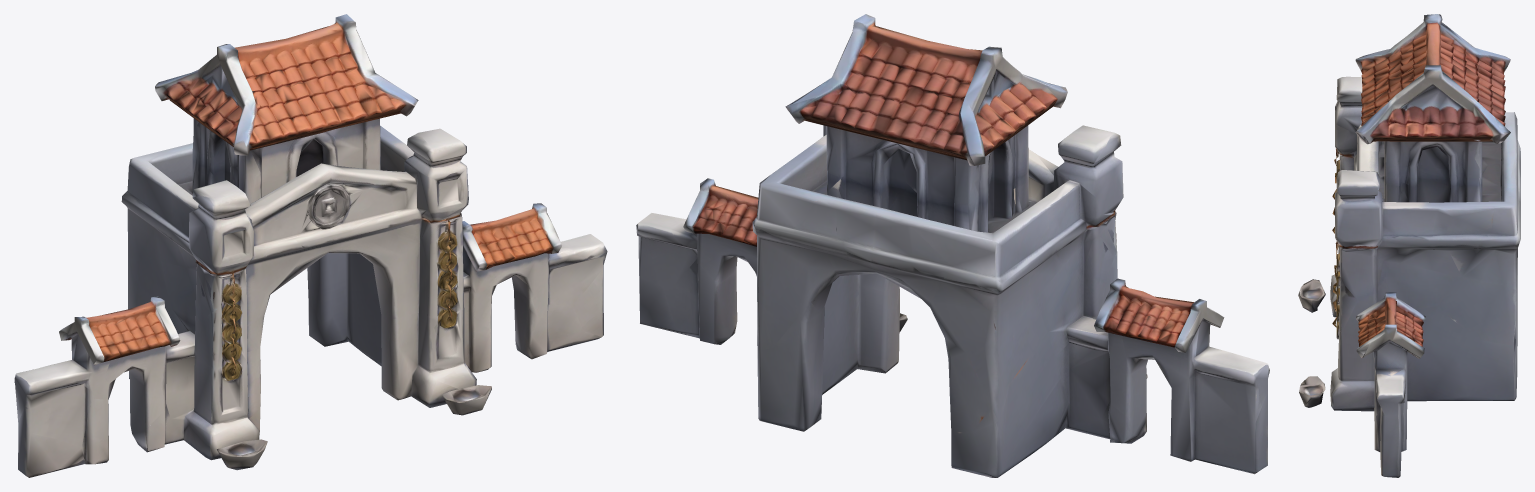
Rendered from cong-lang-bac.8121d0a3.glb.
3 renders of one model, left to right at view 1: azimuth 30°, elevation 25°; view 2: azimuth 150°, elevation 25°; view 3: azimuth 270°, elevation 25°, orthographic. The views are drawn at different scales.
Parts seen in each view (by area): view 1: tripo_node_dccabd12-5fb9-401d-8ad4-54225830297c; view 2: tripo_node_dccabd12-5fb9-401d-8ad4-54225830297c; view 3: tripo_node_dccabd12-5fb9-401d-8ad4-54225830297c.
Part boxes in pixels (x1,y1,x2,y2): tripo_node_dccabd12-5fb9-401d-8ad4-54225830297c: (14,14,607,477); tripo_node_dccabd12-5fb9-401d-8ad4-54225830297c: (636,14,1269,477); tripo_node_dccabd12-5fb9-401d-8ad4-54225830297c: (1298,14,1520,477).
Size of the model in its own units: 0.9791 by 0.5761 by 0.3701.
1 material, 1 textured.
